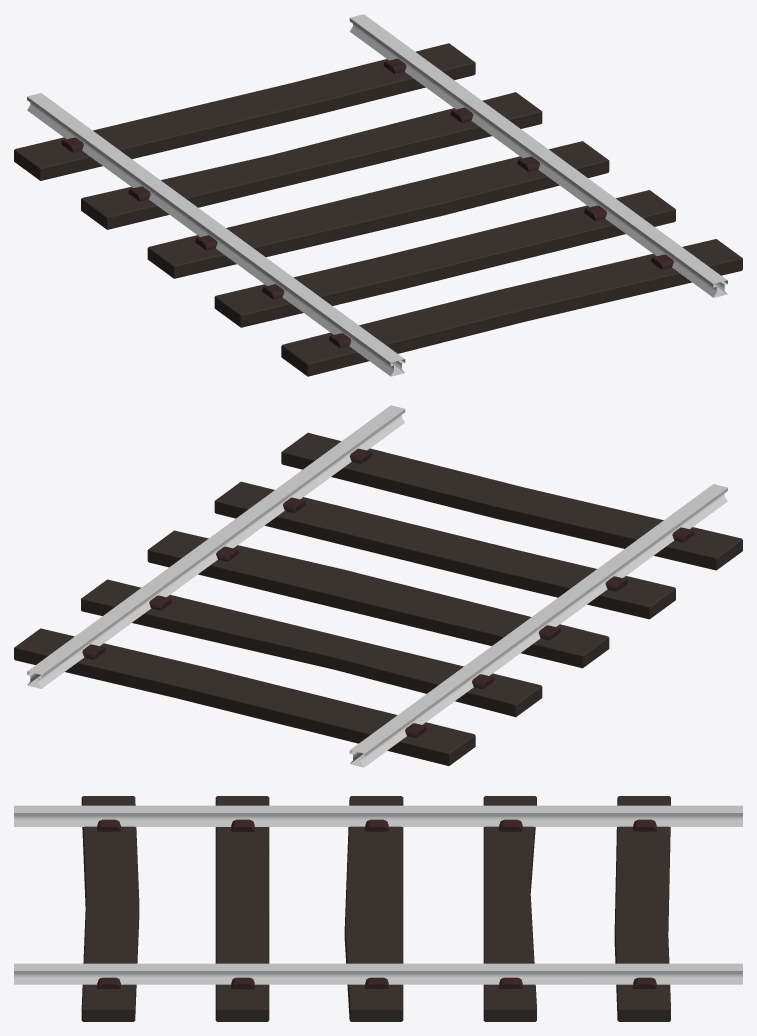
The model's file is Track.fbx.
3 renders of one model, top to bottom at view 1: azimuth 30°, elevation 25°; view 2: azimuth 150°, elevation 25°; view 3: azimuth 270°, elevation 25°, orthographic.
Visible parts, largest first — view 1: Cube.005, Cube.004; view 2: Cube.005, Cube.004; view 3: Cube.005, Cube.004.
Part boxes in pixels (left/top/right/bottom): Cube.005: left=14, top=43, right=742, bottom=376; Cube.004: left=27, top=14, right=727, bottom=376; Cube.005: left=14, top=432, right=742, bottom=765; Cube.004: left=27, top=405, right=727, bottom=767; Cube.005: left=81, top=796, right=670, bottom=1021; Cube.004: left=14, top=805, right=742, bottom=984.
Size of the model in its own units: 760 by 47.6 by 1098.
